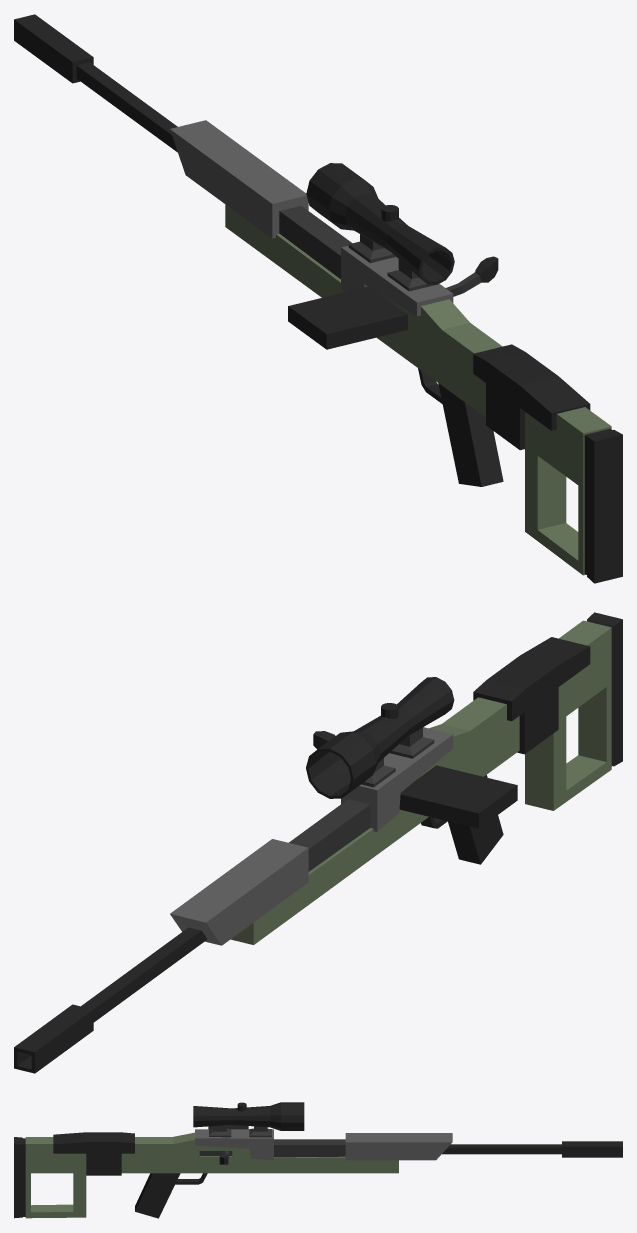
File: sniper.glb
The picture shows the model from 3 angles, top to bottom: view 1: azimuth 30°, elevation 25°; view 2: azimuth 150°, elevation 25°; view 3: azimuth 270°, elevation 25°; orthographic projection. The views are drawn at different scales.
Parts seen in each view (by area): view 1: Body, Upper_Body, Scope, Magazine, Stick; view 2: Body, Upper_Body, Scope, Magazine; view 3: Body, Upper_Body, Scope.
Boxes of the visible parts, x1,y1,x2,y2 form: Body: (225,204,622,583); Upper_Body: (14,14,453,316); Scope: (306,163,454,291); Magazine: (288,286,407,349); Stick: (446,256,498,296); Body: (231,612,622,944); Upper_Body: (14,727,453,1073); Scope: (306,677,454,798); Magazine: (399,765,517,828); Body: (14,1132,398,1218); Upper_Body: (195,1129,622,1160); Scope: (193,1102,304,1137).
Bounding box in the file's own units: 0.2557 × 0.2825 × 1.39.
1 material, 1 textured.
